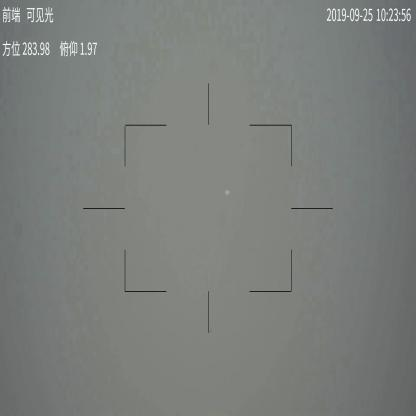uav: (224, 187, 230, 194)
